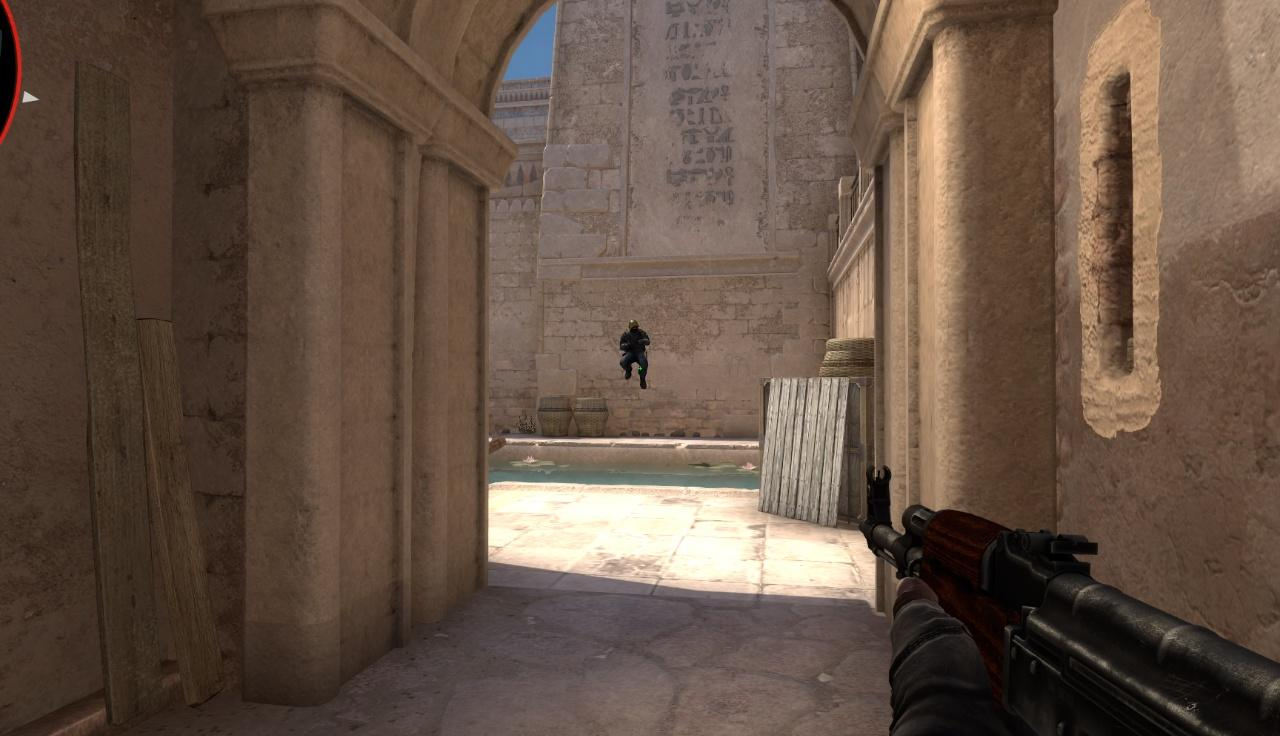ct: (619, 318, 651, 386)
cthead: (628, 319, 639, 333)
rifle: (860, 482, 1279, 734)
